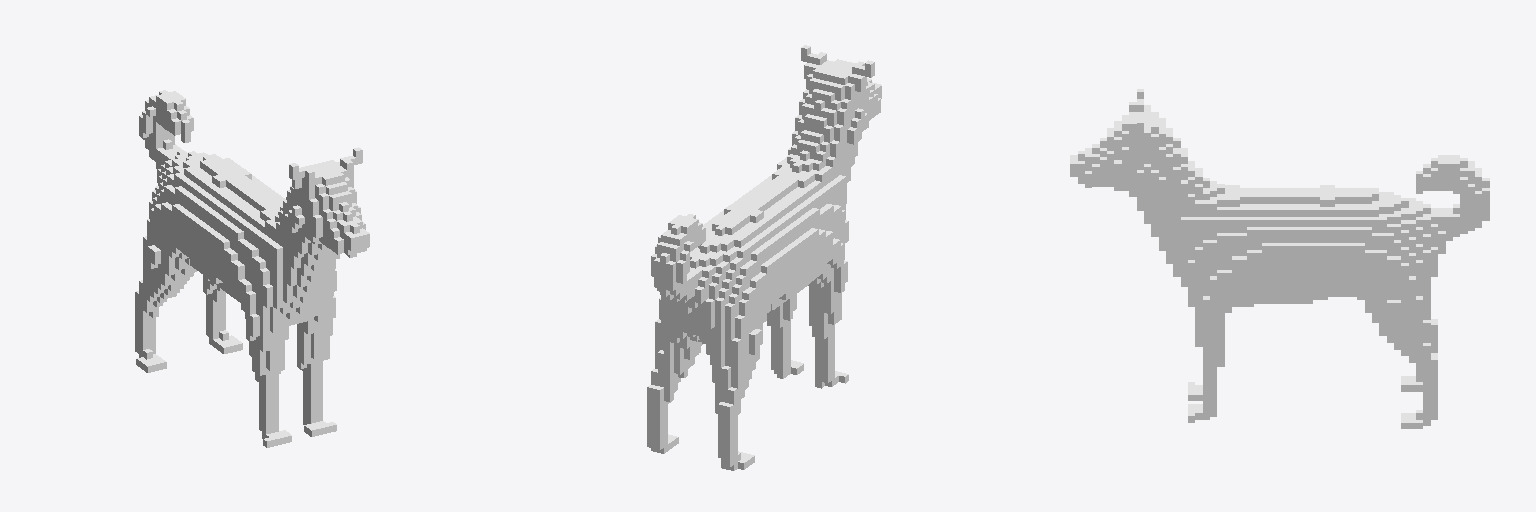
Rendered from doggo.obj.
The picture shows the model from 3 angles: view 1: azimuth 30°, elevation 25°; view 2: azimuth 150°, elevation 25°; view 3: azimuth 270°, elevation 25°; orthographic projection.
Parts seen in each view (by area): view 1: 13466_Canaan_Dog_v1_L3; view 2: 13466_Canaan_Dog_v1_L3; view 3: 13466_Canaan_Dog_v1_L3.
Boxes of the visible parts, box(x1,y1,x2,y2) form: 13466_Canaan_Dog_v1_L3: box(135, 90, 369, 447); 13466_Canaan_Dog_v1_L3: box(647, 45, 881, 470); 13466_Canaan_Dog_v1_L3: box(1070, 89, 1489, 428).
Bounding box in the file's own units: 1.14 × 3.42 × 4.33.